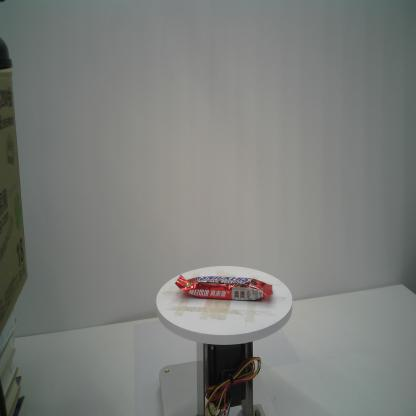Chocolate: (173, 273, 274, 301)
